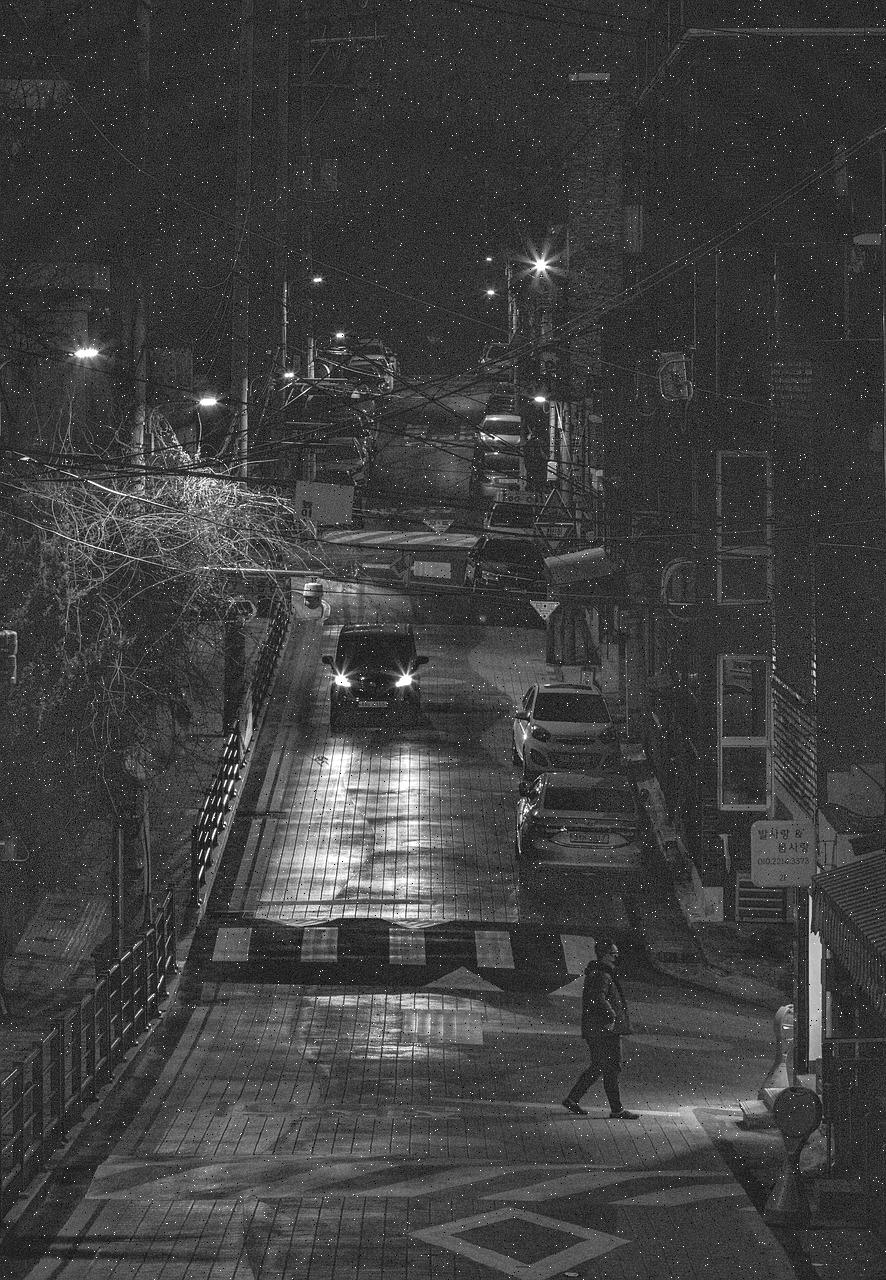car: (515, 774, 659, 890), (510, 681, 618, 781), (331, 627, 428, 734), (472, 533, 549, 597), (468, 452, 530, 499), (471, 412, 528, 454), (318, 441, 365, 487)
pedestrian: (565, 940, 636, 1123)
